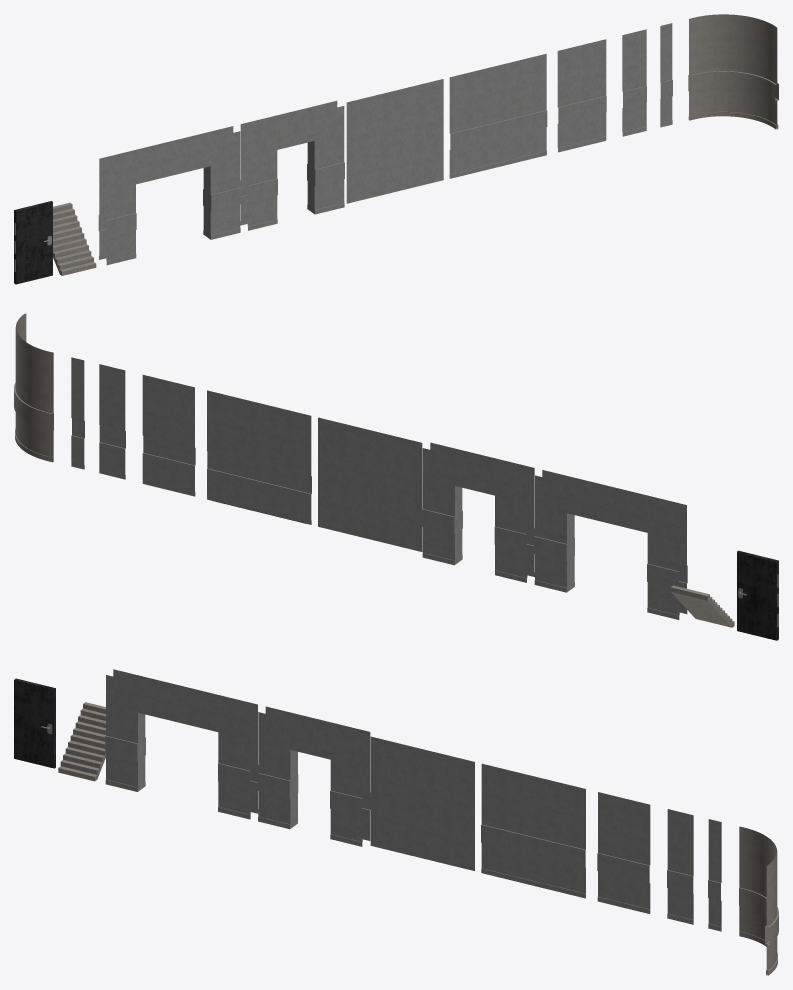
The model's file is fix_map_lvl_1.fbx.
The picture shows the model from 3 angles, top to bottom: view 1: azimuth 30°, elevation 25°; view 2: azimuth 150°, elevation 25°; view 3: azimuth 330°, elevation 25°; orthographic projection. The views are drawn at different scales.
Visible parts, largest first — view 1: Double frame, wall1, blank wall, wall Curve Broke, Single door, wall1/2, door, wall1/4, Stairs, wall1/8; view 2: Double frame, wall1, blank wall, Single door, wall1/2, wall Curve Broke, door, wall1/4, wall1/8, Stairs; view 3: Double frame, wall1, blank wall, Single door, wall1/2, wall Curve Broke, door, wall1/4, Stairs, wall1/8.
Boxes of the visible parts, bbox=[...] form: Double frame: bbox=[98, 126, 240, 265]; wall1: bbox=[449, 53, 547, 178]; blank wall: bbox=[346, 79, 443, 203]; wall Curve Broke: bbox=[688, 14, 778, 129]; Single door: bbox=[240, 101, 344, 230]; wall1/2: bbox=[557, 39, 606, 152]; door: bbox=[14, 201, 52, 284]; wall1/4: bbox=[622, 29, 646, 136]; Stairs: bbox=[53, 202, 96, 275]; wall1/8: bbox=[660, 23, 672, 127]; Double frame: bbox=[534, 470, 687, 619]; wall1: bbox=[207, 390, 311, 524]; blank wall: bbox=[318, 417, 422, 551]; Single door: bbox=[422, 442, 534, 582]; wall1/2: bbox=[142, 375, 195, 496]; wall Curve Broke: bbox=[14, 313, 53, 462]; door: bbox=[737, 550, 778, 640]; wall1/4: bbox=[99, 364, 125, 479]; wall1/8: bbox=[71, 357, 84, 469]; Stairs: bbox=[670, 585, 734, 627]; Double frame: bbox=[105, 669, 258, 819]; wall1: bbox=[481, 763, 585, 898]; blank wall: bbox=[370, 736, 474, 870]; Single door: bbox=[257, 706, 370, 846]; wall1/2: bbox=[597, 792, 650, 913]; wall Curve Broke: bbox=[739, 826, 778, 975]; door: bbox=[14, 678, 55, 768]; wall1/4: bbox=[667, 809, 693, 924]; Stairs: bbox=[58, 702, 105, 781]; wall1/8: bbox=[708, 819, 721, 931].
Bounding box in the file's own units: 24.58 × 3.26 × 3.16.
Materials: 2 (2 with a texture image).
